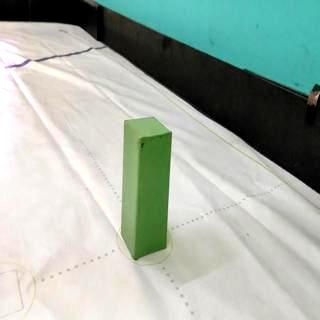greenbox: (122, 114, 174, 262)
